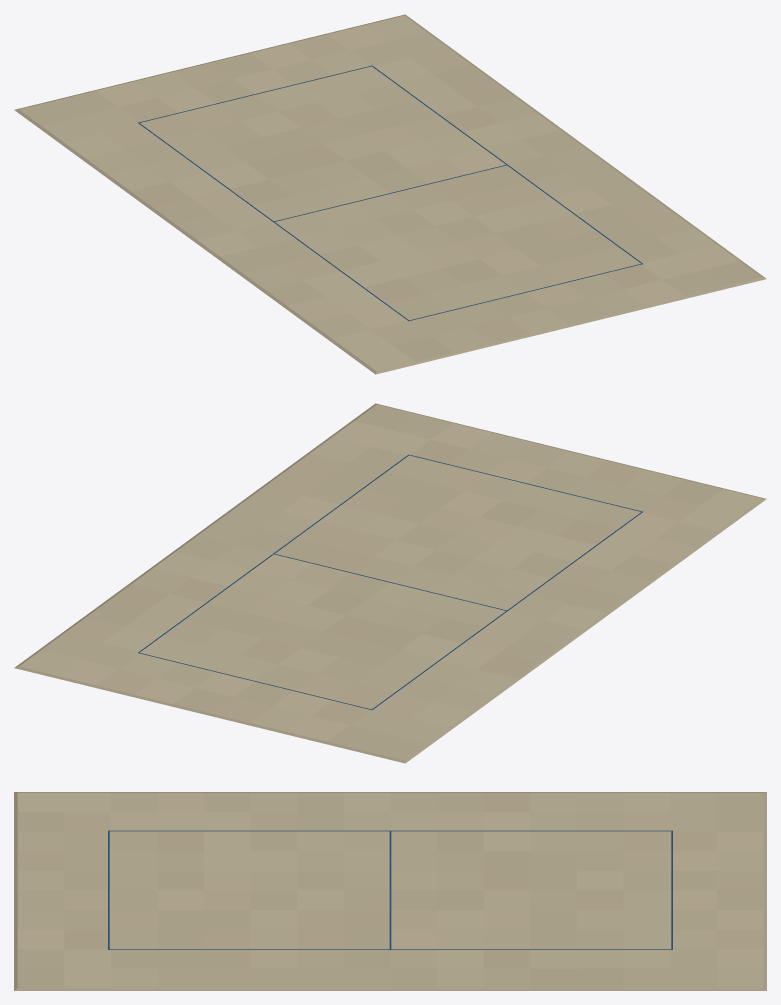
Rendered from sport.court_sand.pale.glb.
3 renders of one model, top to bottom at view 1: azimuth 30°, elevation 25°; view 2: azimuth 150°, elevation 25°; view 3: azimuth 270°, elevation 25°, orthographic. The views are drawn at different scales.
Parts seen in each view (by area): view 1: sport_court_sand_pale; view 2: sport_court_sand_pale; view 3: sport_court_sand_pale.
Boxes of the visible parts, left/top/right/bottom form: sport_court_sand_pale: left=14, top=14, right=766, bottom=374; sport_court_sand_pale: left=14, top=403, right=766, bottom=763; sport_court_sand_pale: left=14, top=792, right=766, bottom=990.
Size of what is drawn, in the model's own units: 15 by 0.04 by 24.
